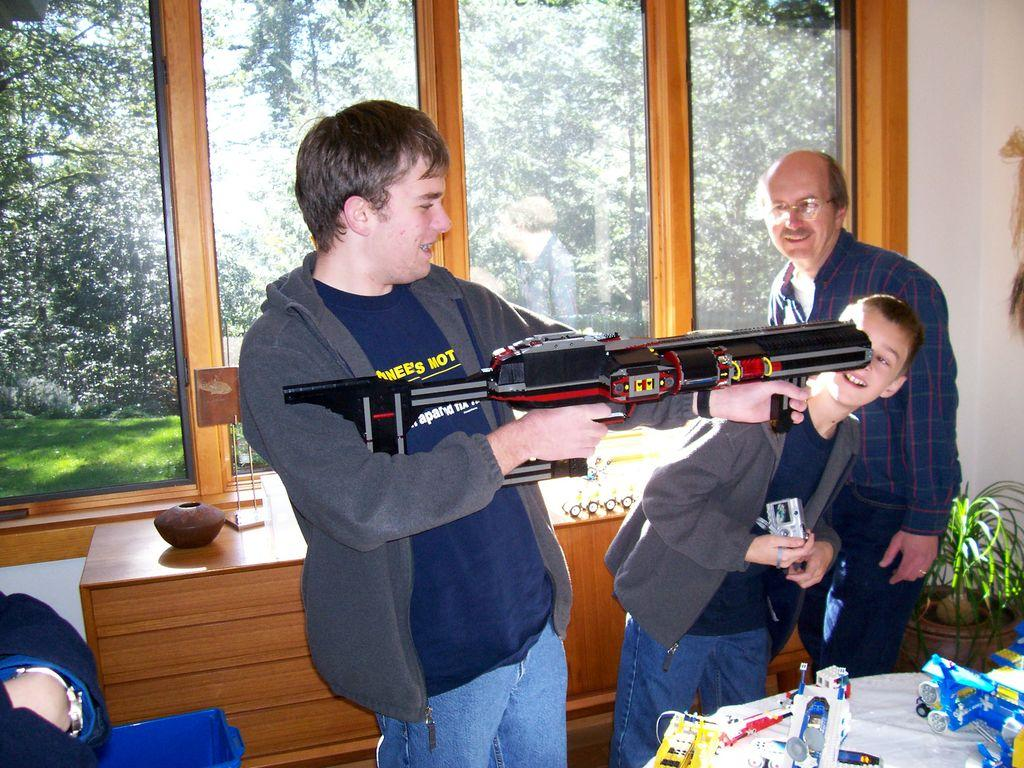Shotgun: (276, 316, 878, 450)
